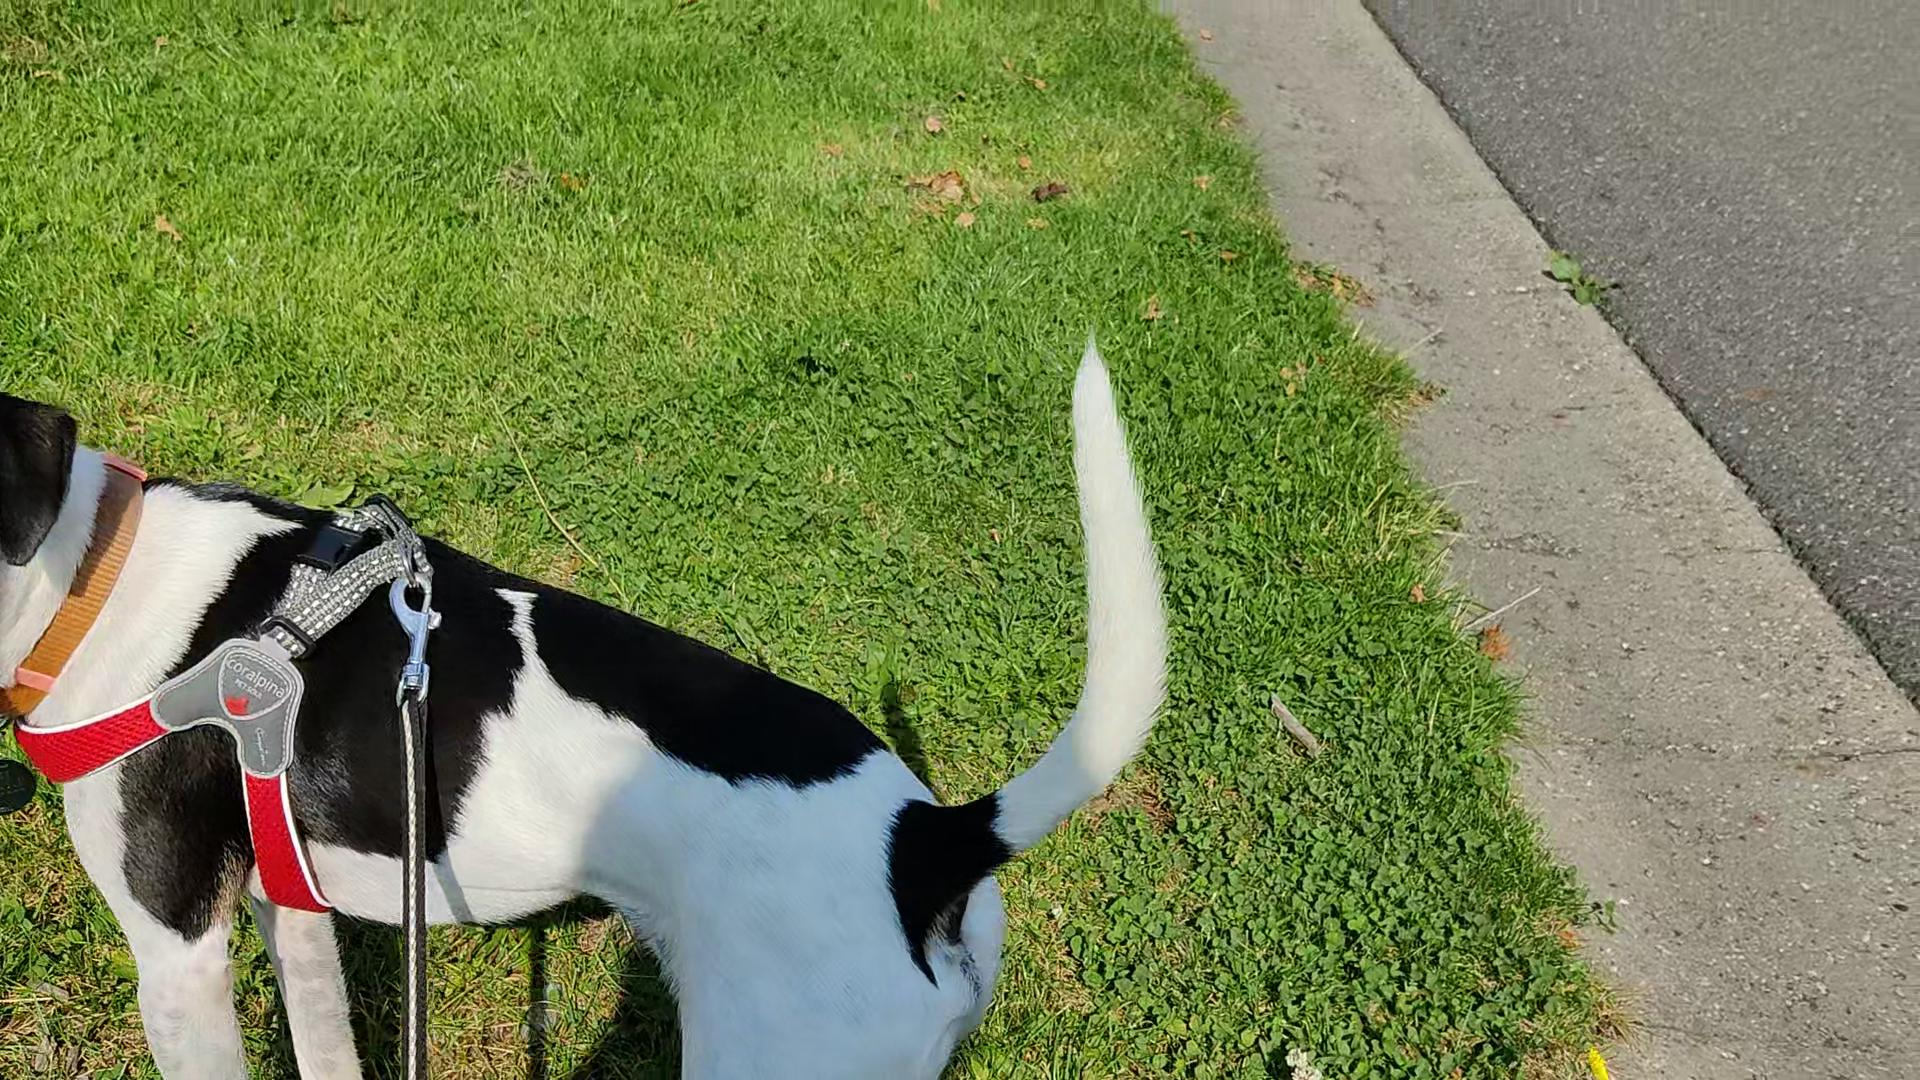Dog: (0, 314, 1178, 1079)
